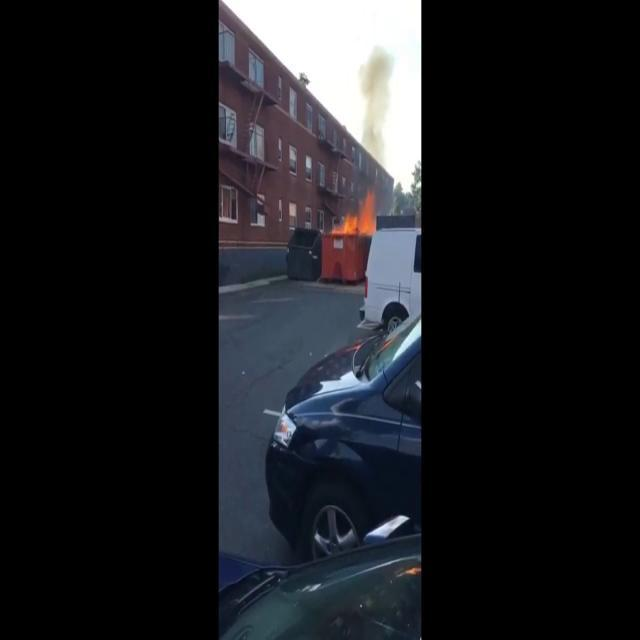Fire: (336, 188, 378, 236)
Smoke: (352, 33, 400, 209)
